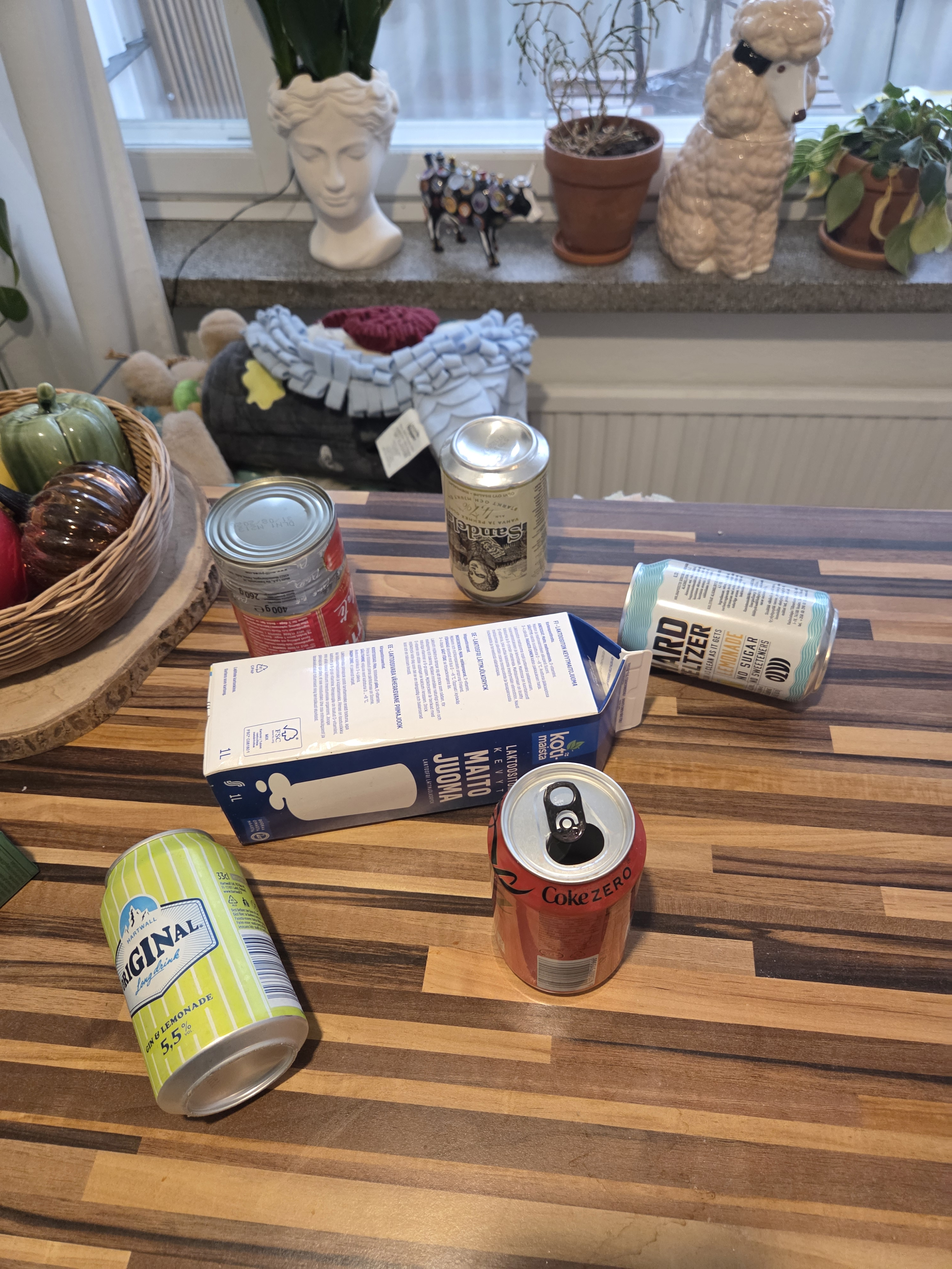Dryckeskartong: (202, 612, 654, 846)
Konservburk: (204, 476, 366, 658)
Pantburk: (98, 827, 310, 1118), (486, 761, 648, 996), (616, 557, 840, 704), (438, 415, 551, 607)
